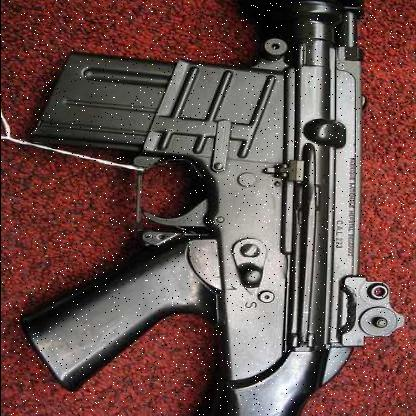rifle: (27, 0, 406, 415)
